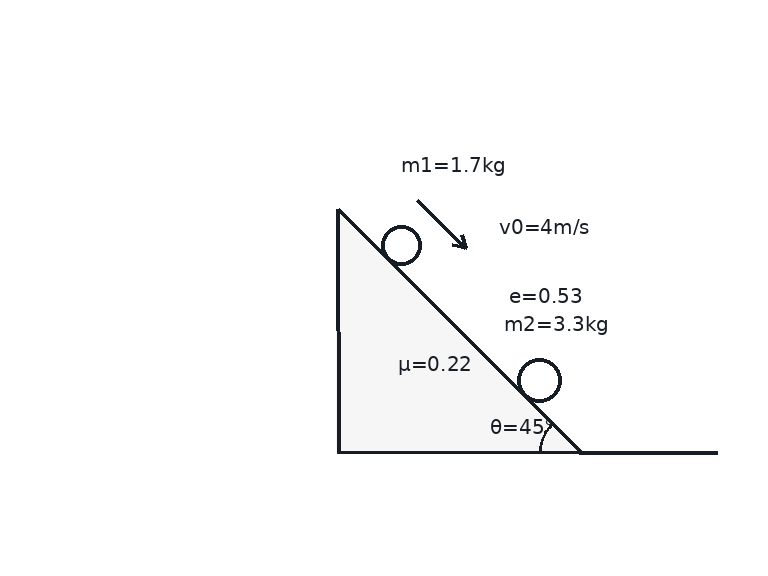ball: (515, 356, 563, 404), (379, 223, 423, 267)
ramp: (335, 207, 582, 454)
